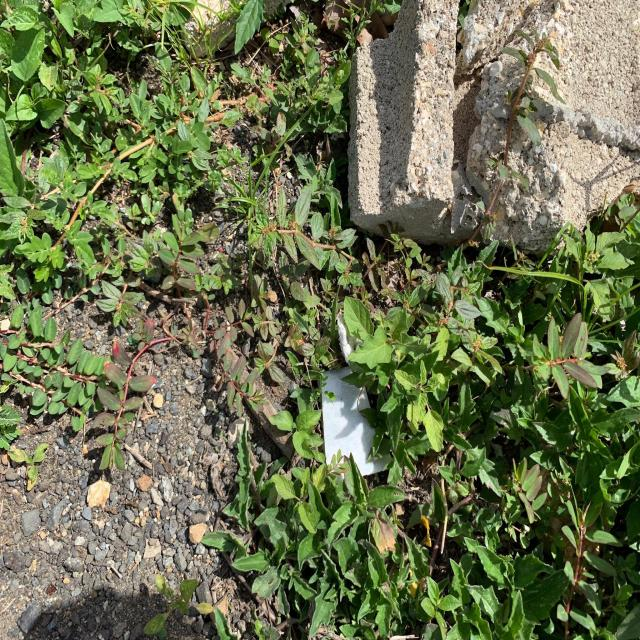litter: (321, 366, 392, 481), (337, 313, 362, 365)
